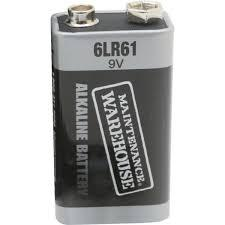9V Battery: (51, 1, 176, 225)
